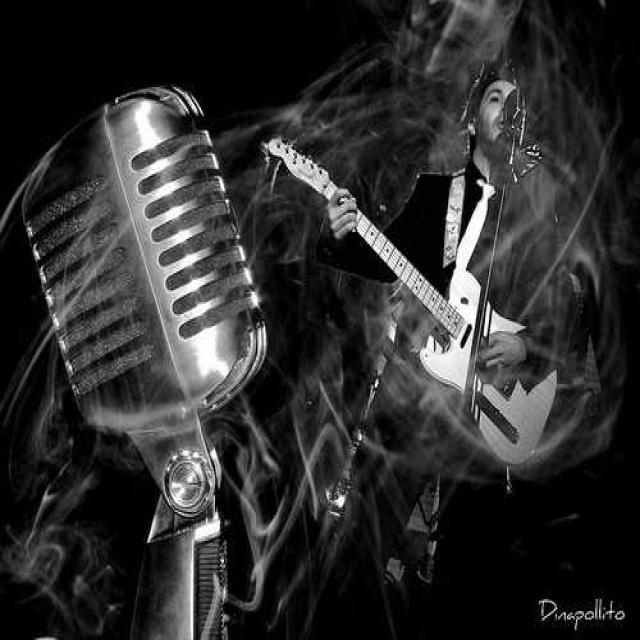microphone: (25, 85, 261, 630), (500, 74, 543, 182)
